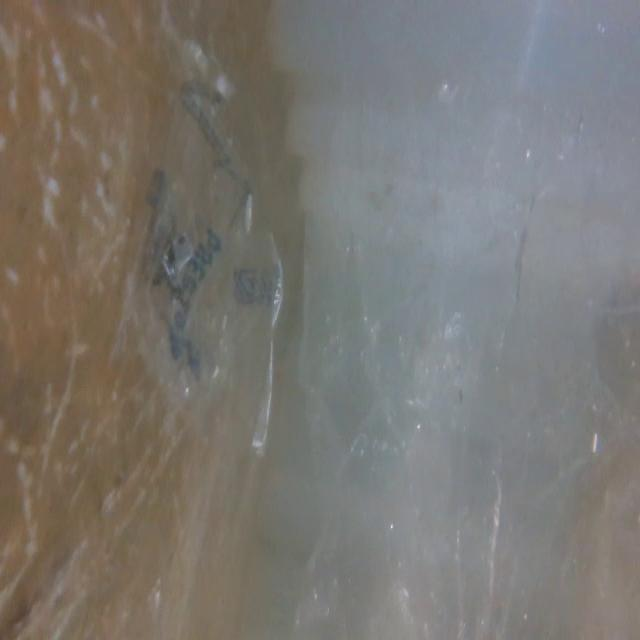plastic bags: (128, 82, 289, 464)
